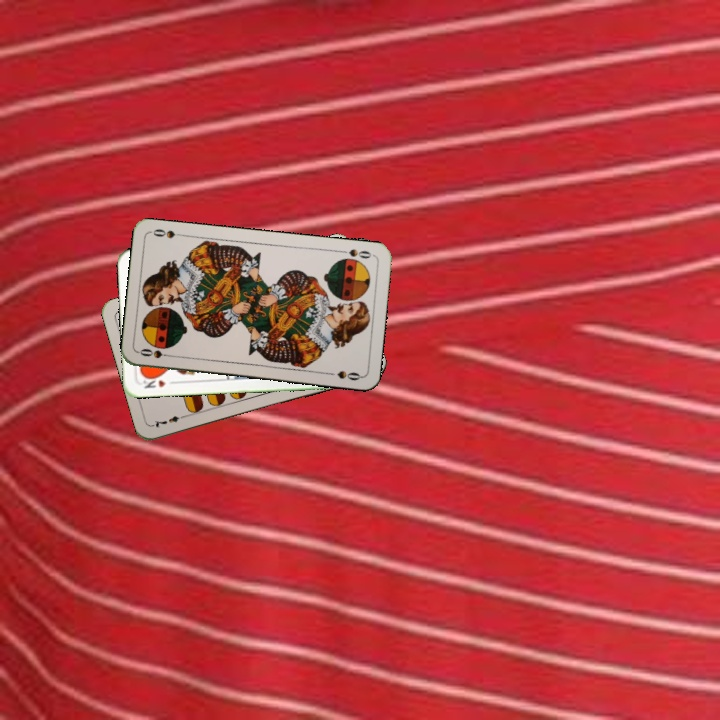E7: (149, 411, 189, 430)
HK: (139, 372, 168, 391)
SO: (136, 344, 176, 361), (335, 245, 376, 261)
